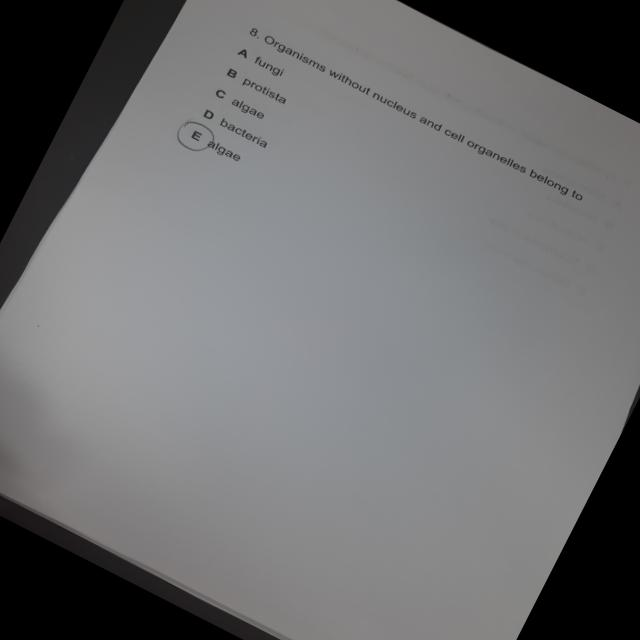E: (169, 113, 221, 160)
